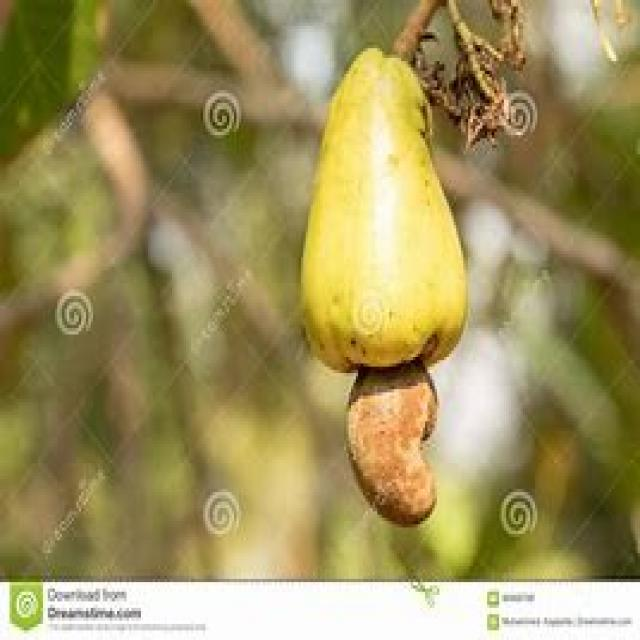Cashew: (318, 359, 481, 539)
